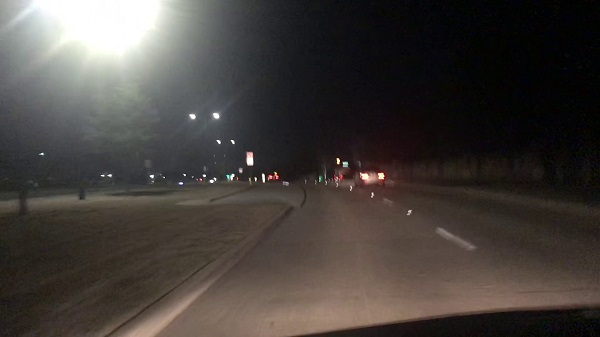car: (352, 167, 385, 187), (264, 168, 282, 182)
